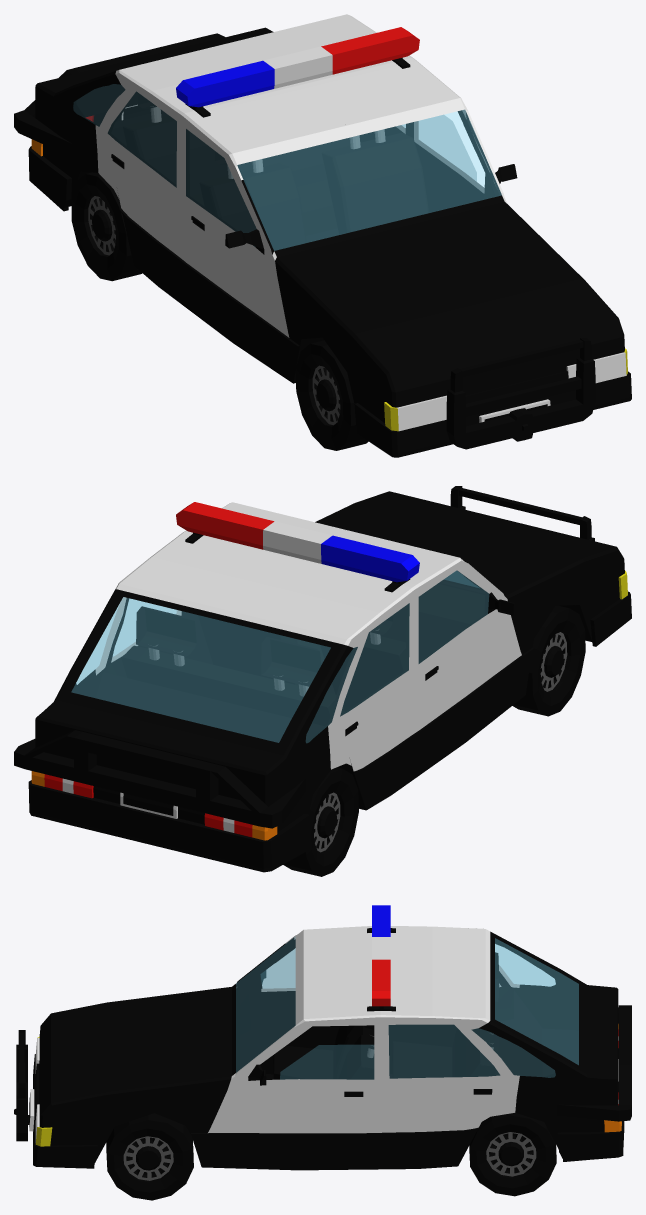
File: escortpolice.glb
The picture shows the model from 3 angles, top to bottom: view 1: azimuth 30°, elevation 25°; view 2: azimuth 150°, elevation 25°; view 3: azimuth 270°, elevation 25°; orthographic projection. The views are drawn at different scales.
Visible parts, largest first — view 1: ARMAZON, asiento adelante, Cube.001, Cube.002, asiento trasero, rueda_delantera_der, INTERIOR, rueda_trasera_der, baul, Cube; view 2: ARMAZON, baul, INTERIOR, asiento trasero, Cube, Cube.002, asiento adelante, rueda_delantera_der, rueda_trasera_der, Cube.001; view 3: ARMAZON, INTERIOR, baul, rueda_delantera_izq, rueda_trasera_izq, asiento adelante, asiento trasero, Cube, Cube.002, Cube.001.
Boxes of the visible parts, x1=… form: ARMAZON: x1=28, y1=14, x2=631, y2=457; asiento adelante: x1=199, y1=129, x2=428, y2=250; Cube.001: x1=446, y1=338, x2=595, y2=449; Cube.002: x1=176, y1=27, x2=419, y2=117; asiento trasero: x1=123, y1=93, x2=350, y2=235; rueda_delantera_der: x1=295, y1=340, x2=368, y2=450; INTERIOR: x1=73, y1=89, x2=499, y2=250; rueda_trasera_der: x1=71, y1=172, x2=142, y2=281; baul: x1=43, y1=29, x2=267, y2=116; Cube: x1=14, y1=33, x2=225, y2=157; ARMAZON: x1=28, y1=491, x2=631, y2=872; baul: x1=41, y1=590, x2=338, y2=799; INTERIOR: x1=71, y1=571, x2=575, y2=743; asiento trasero: x1=121, y1=606, x2=344, y2=725; Cube: x1=14, y1=730, x2=305, y2=828; Cube.002: x1=176, y1=502, x2=419, y2=592; asiento adelante: x1=198, y1=615, x2=405, y2=711; rueda_delantera_der: x1=512, y1=606, x2=585, y2=716; rueda_trasera_der: x1=283, y1=767, x2=358, y2=876; Cube.001: x1=450, y1=486, x2=594, y2=541; ARMAZON: x1=29, y1=926, x2=624, y2=1170; INTERIOR: x1=236, y1=938, x2=578, y2=1079; baul: x1=490, y1=933, x2=618, y2=1076; rueda_delantera_izq: x1=106, y1=1113, x2=193, y2=1200; rueda_trasera_izq: x1=469, y1=1112, x2=556, y2=1196; asiento adelante: x1=273, y1=1025, x2=374, y2=1079; asiento trasero: x1=392, y1=952, x2=499, y2=1077; Cube: x1=556, y1=1005, x2=631, y2=1121; Cube.002: x1=367, y1=905, x2=395, y2=1011; Cube.001: x1=14, y1=1030, x2=29, y2=1141.
Bounding box in the file's own units: 2.15 × 1.83 × 4.97.
